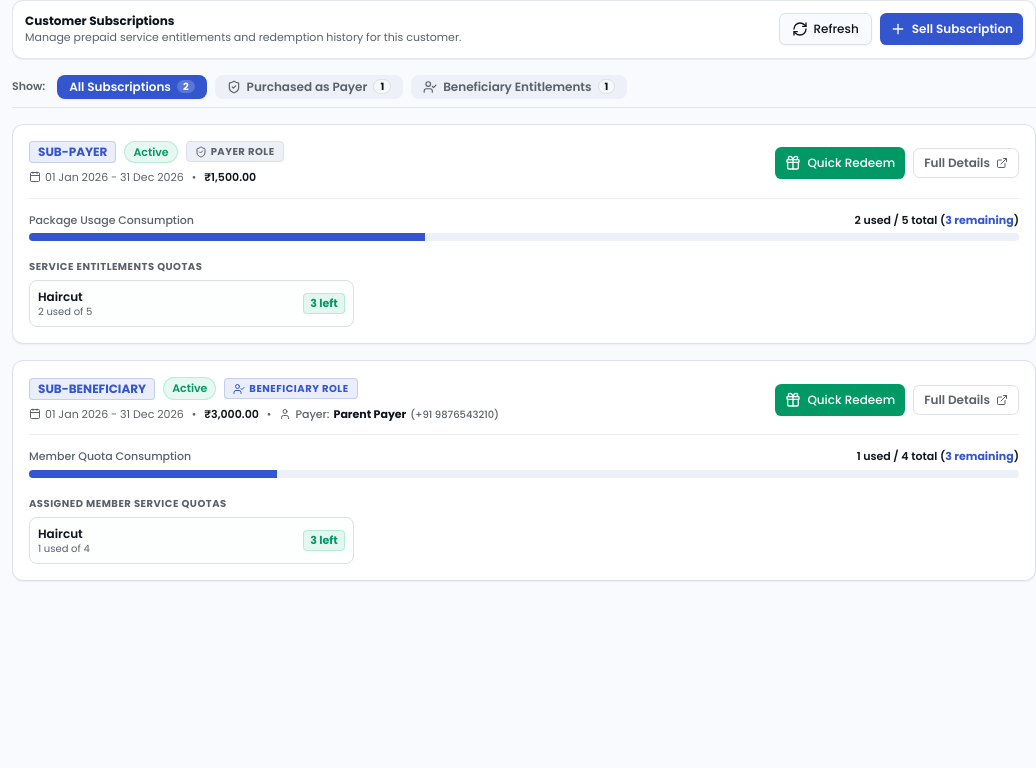
Scenario: CustomerSubscriptionsTab - Production Grade Role Filtering › filters accurately when 'Purchased as Payer' tab is clicked
The width and height of the screenshot is (1036, 768).
What coordinates should you click on to do the following:
click the button "Purchased as Payer 1"
I would click on:
 (309, 86)
Its box is [215,74,403,98].
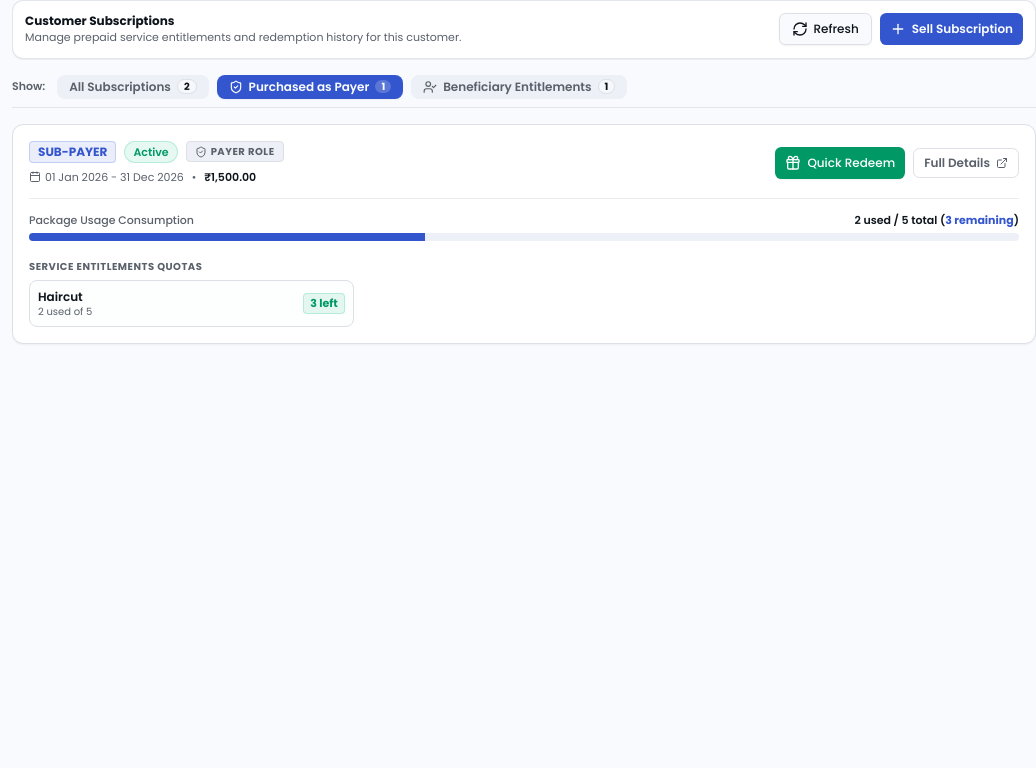
Expected: the text "SUB-PAYER" is shown, [29,141,116,163]
Expected: the text "SUB-BENEFICIARY" is gone
